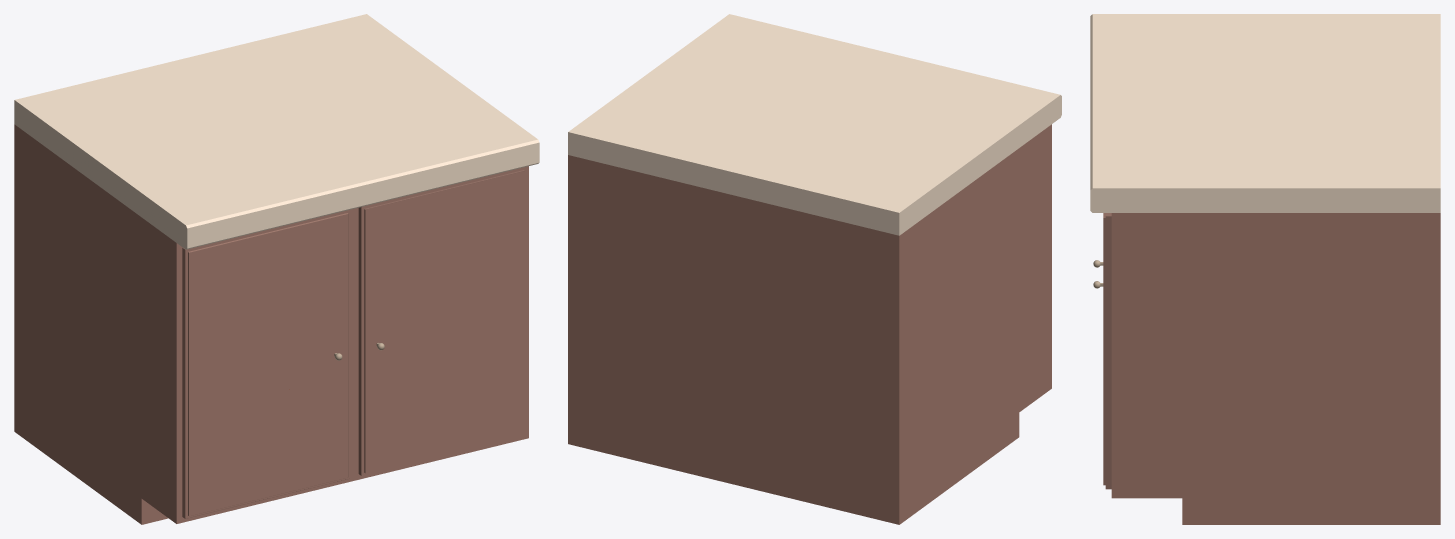
Rendered from Cabinet.glb.
3 renders of one model, left to right at view 1: azimuth 30°, elevation 25°; view 2: azimuth 150°, elevation 25°; view 3: azimuth 270°, elevation 25°, orthographic. The views are drawn at different scales.
Visible parts, largest first — view 1: Cabinet; view 2: Cabinet; view 3: Cabinet.
Boxes of the visible parts, x1,y1,x2,y2 form: Cabinet: (14,14,539,524); Cabinet: (568,14,1061,524); Cabinet: (1090,14,1440,524).
Size of the model in its own units: 1 by 0.9 by 0.8489.
Materials: 1 (1 with a texture image).
